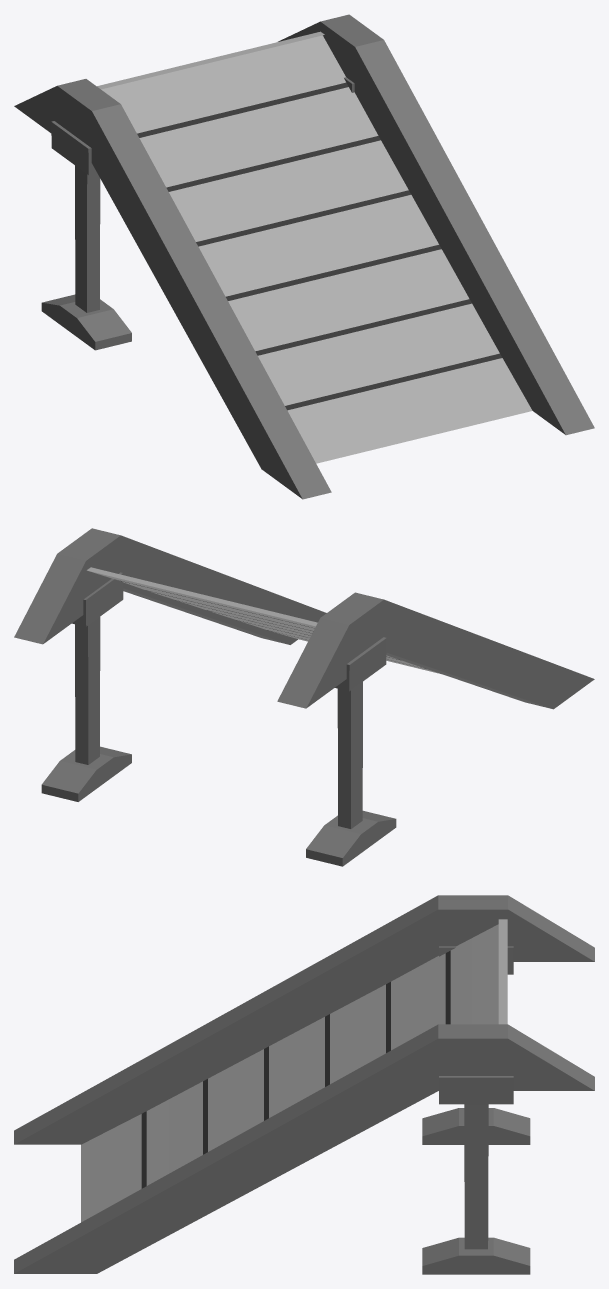
Rendered from Ramp.fbx.
3 renders of one model, top to bottom at view 1: azimuth 30°, elevation 25°; view 2: azimuth 150°, elevation 25°; view 3: azimuth 270°, elevation 25°, orthographic.
Parts seen in each view (by area): view 1: Ramp; view 2: Ramp; view 3: Ramp.
Boxes of the visible parts, box(x1,y1,x2,y2) form: Ramp: box(14, 14, 594, 499); Ramp: box(14, 528, 594, 866); Ramp: box(14, 895, 594, 1274).
Bounding box in the file's own units: 1.87 × 1.39 × 3.11.
Materials: 1 (1 with a texture image).
